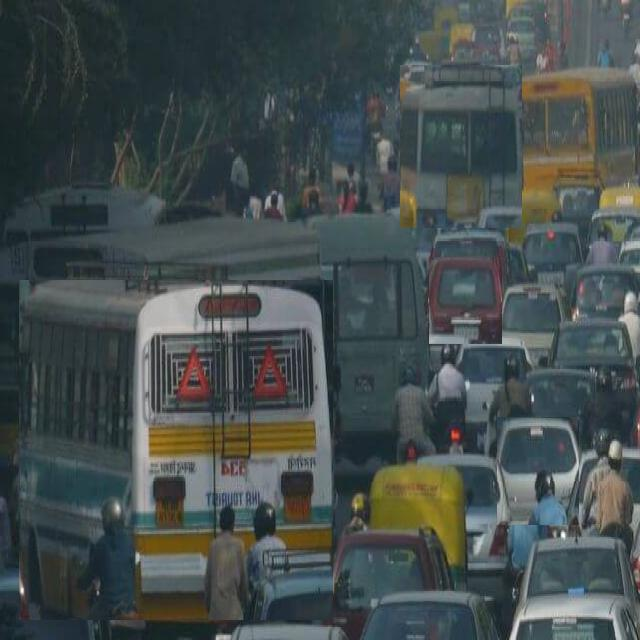bus: (20, 280, 333, 620), (400, 66, 522, 228), (515, 67, 636, 189)
car: (421, 454, 512, 629), (325, 529, 451, 640), (456, 335, 532, 451), (498, 417, 579, 525), (429, 258, 502, 344)
